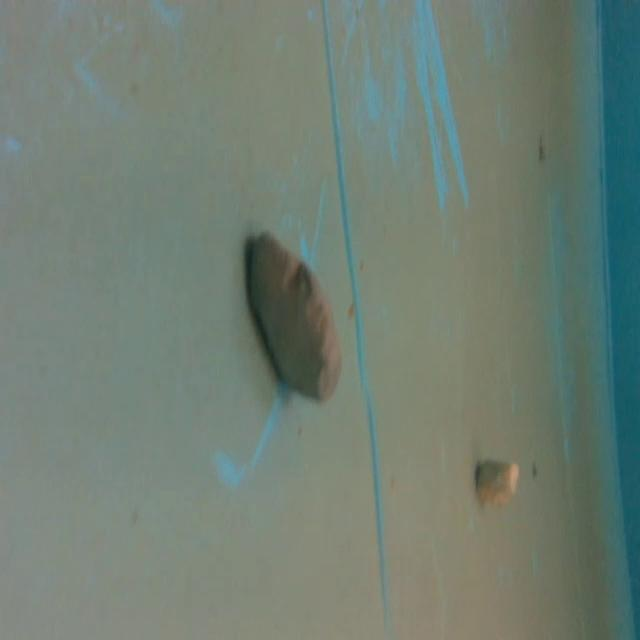rock: (239, 223, 355, 408)
